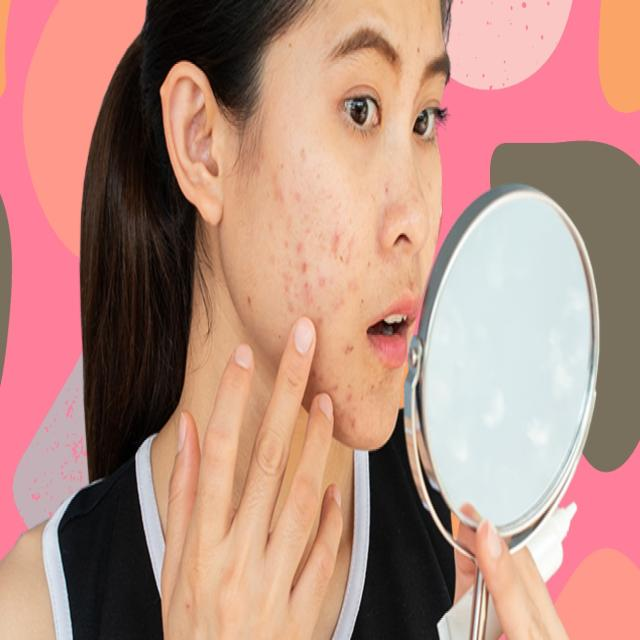Acne: (230, 117, 395, 445), (293, 2, 440, 68), (406, 166, 440, 280)
